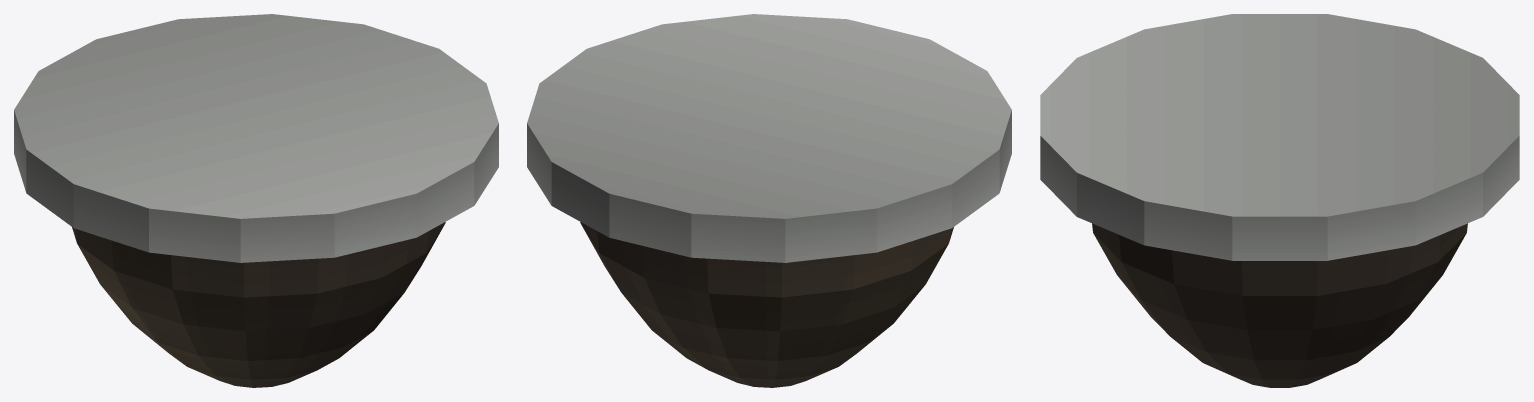
File: streetlight_altomvul.obj
3 views of the same model, side by side, from view 1: azimuth 30°, elevation 25°; view 2: azimuth 150°, elevation 25°; view 3: azimuth 270°, elevation 25° (orthographic).
Visible parts, largest first — view 1: fixture; view 2: fixture; view 3: fixture.
Boxes of the visible parts, bbox=[...] form: fixture: bbox=[14, 14, 498, 387]; fixture: bbox=[527, 14, 1011, 387]; fixture: bbox=[1040, 14, 1519, 387].
Size of the model in its own units: 0.613 by 0.3781 by 0.613.
